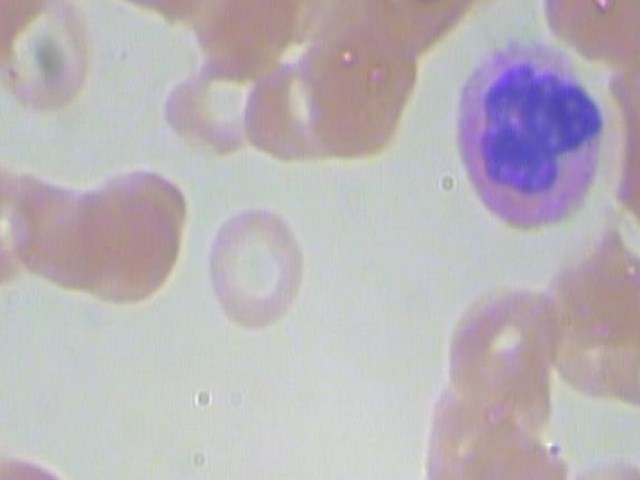RBC: (64, 161, 194, 316), (295, 20, 426, 171), (435, 278, 565, 414), (197, 198, 314, 336), (0, 0, 106, 112), (159, 45, 263, 156), (534, 0, 640, 84), (0, 446, 94, 480)
WBC: (448, 26, 617, 234)
